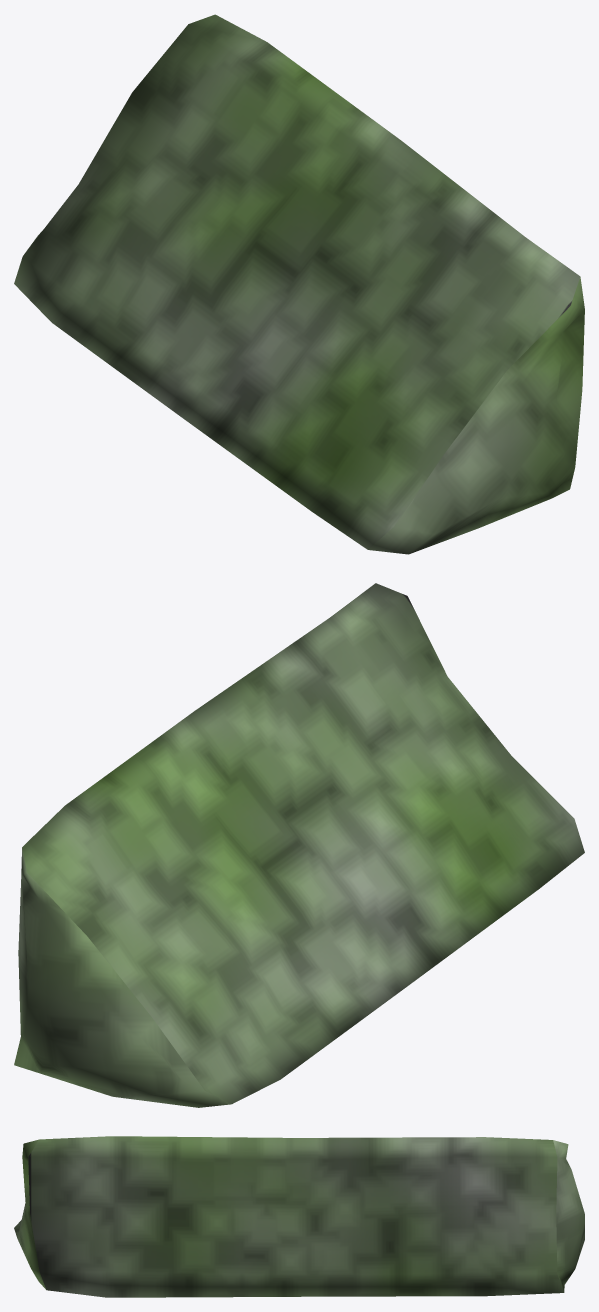
Rendered from Prisma(1x1).fbx.
3 views of the same model, one above another, from view 1: azimuth 30°, elevation 25°; view 2: azimuth 150°, elevation 25°; view 3: azimuth 270°, elevation 25° (orthographic). The views are drawn at different scales.
Parts seen in each view (by area): view 1: Cube; view 2: Cube; view 3: Cube.
Boxes of the visible parts, x1,y1,x2,y2 form: Cube: (14, 14, 584, 554); Cube: (14, 583, 584, 1107); Cube: (14, 1136, 584, 1297).
Size of the model in its own units: 1.01 by 0.9962 by 3.11.
